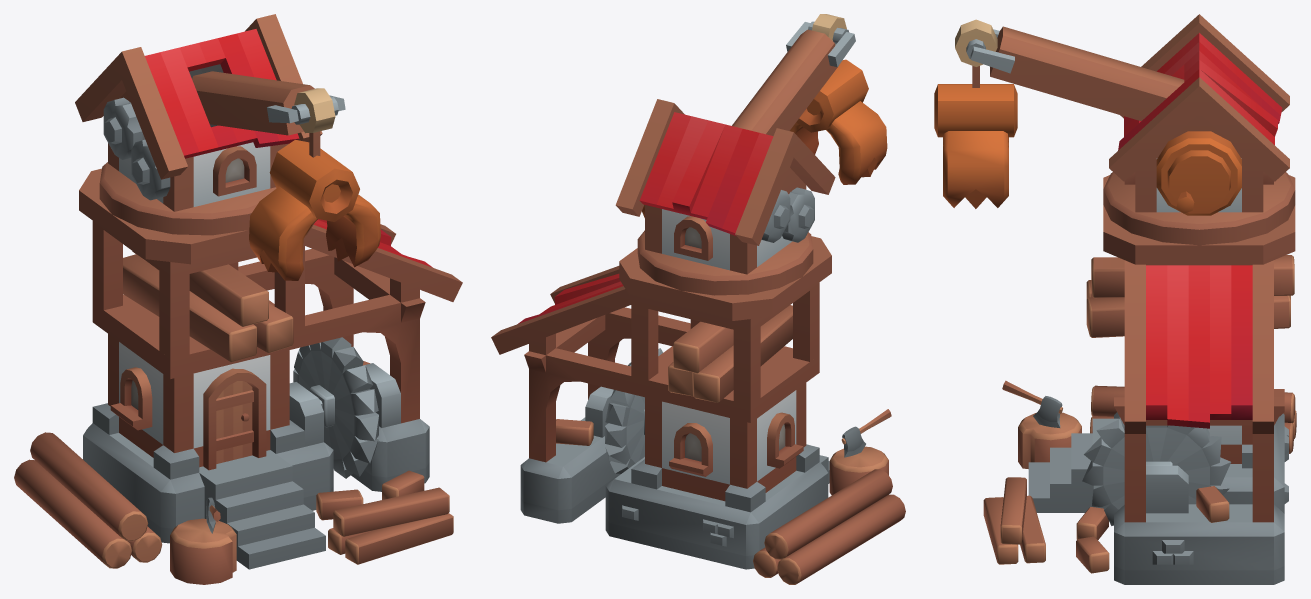
File: building_lumbermill_red.glb
3 views of the same model, side by side, from view 1: azimuth 30°, elevation 25°; view 2: azimuth 150°, elevation 25°; view 3: azimuth 270°, elevation 25° (orthographic). The views are drawn at different scales.
Visible parts, largest first — view 1: building_lumbermill_red, building_lumbermill_top_red, building_lumbermill_saw_red; view 2: building_lumbermill_red, building_lumbermill_top_red, building_lumbermill_saw_red; view 3: building_lumbermill_red, building_lumbermill_top_red, building_lumbermill_saw_red.
Boxes of the visible parts, x1=… form: building_lumbermill_red: x1=14, y1=168, x2=462, y2=584; building_lumbermill_top_red: x1=75, y1=14, x2=380, y2=280; building_lumbermill_saw_red: x1=293, y1=337, x2=378, y2=478; building_lumbermill_red: x1=491, y1=236, x2=905, y2=584; building_lumbermill_top_red: x1=615, y1=14, x2=887, y2=295; building_lumbermill_saw_red: x1=605, y1=348, x2=662, y2=474; building_lumbermill_red: x1=983, y1=175, x2=1296, y2=584; building_lumbermill_top_red: x1=934, y1=14, x2=1295, y2=245; building_lumbermill_saw_red: x1=1082, y1=417, x2=1231, y2=525.
Bounding box in the file's own units: 1.37 × 1.71 × 1.19.
Materials: 1 (1 with a texture image).
